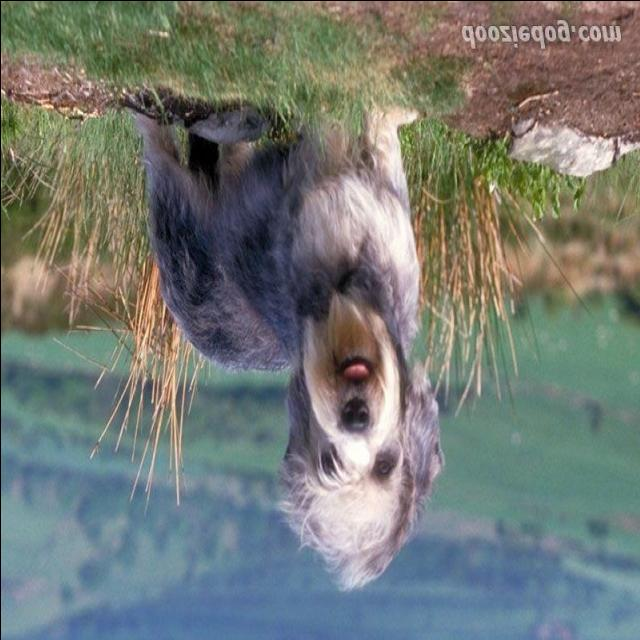dandie_dinmont: (120, 98, 439, 592)
